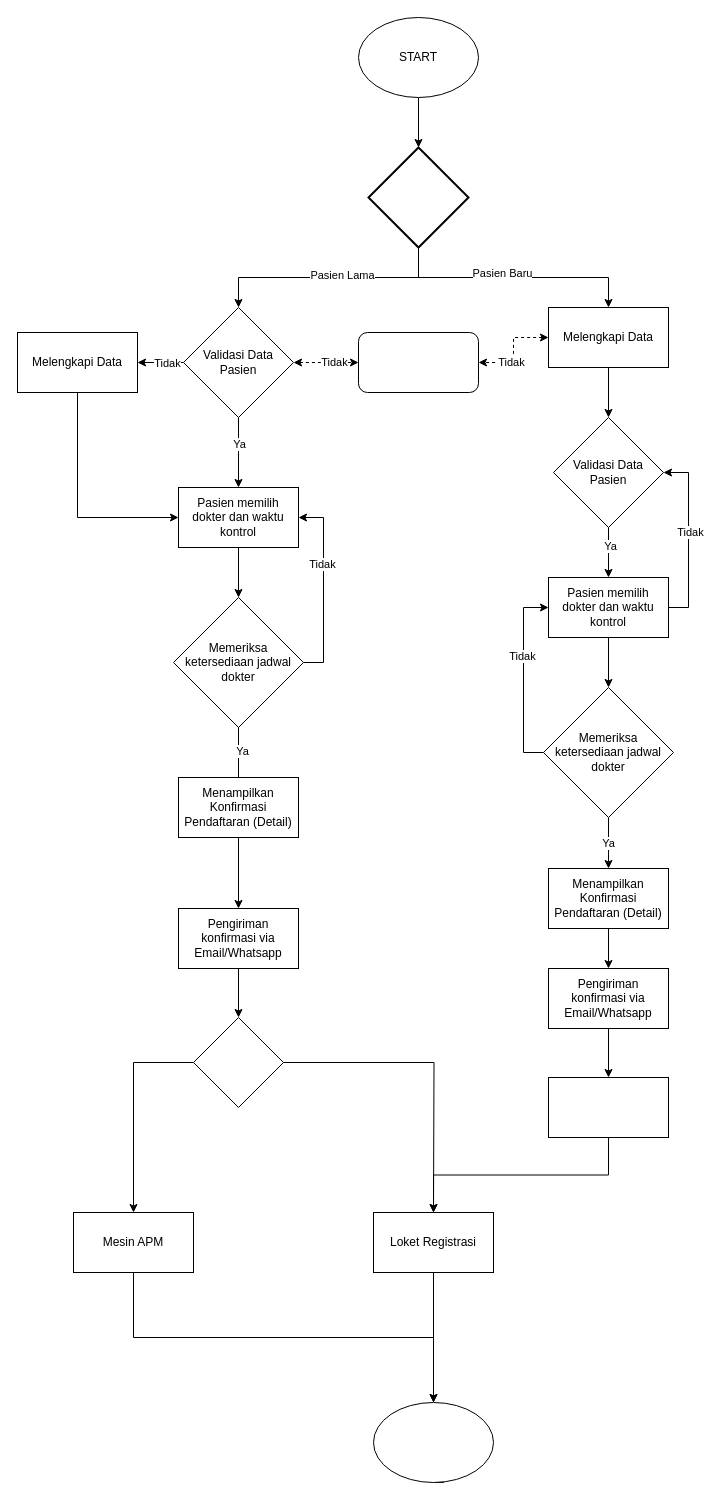
Some shapes in this 721 by 1508 pixel diagram are drawn without their labels. Each missing label, with the centre of its shape:
Memilih Formulir Pendaftaran: (418,197)
Pindah Halaman: (418,362)
Registrasi Ulang BPJS: (238,1062)
Registrasi Ulang di Loket Registrasi: (608,1107)
Selesai: (433,1442)
